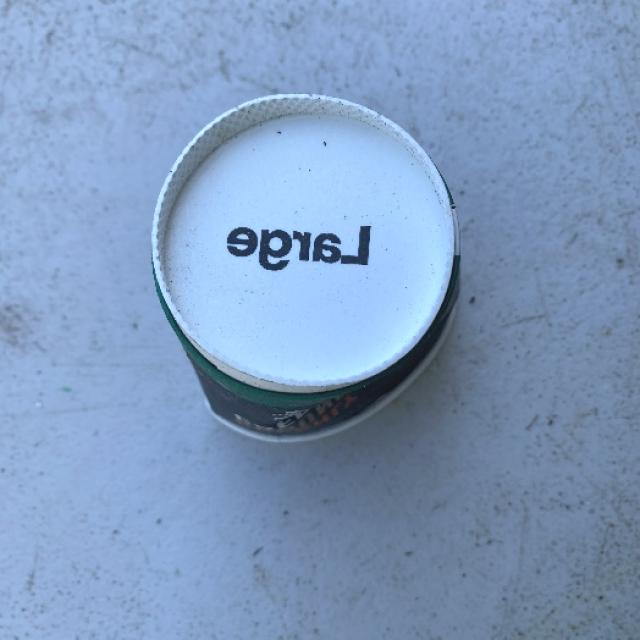styrofoam: (134, 66, 477, 455)
